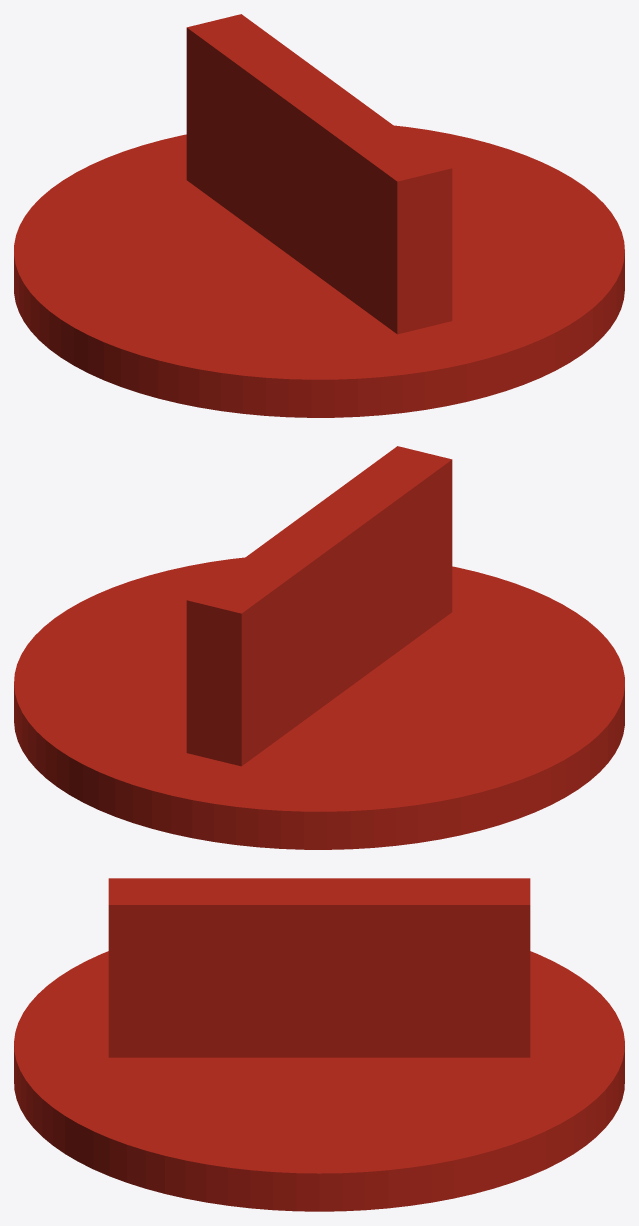
The model's file is Valve.dae.
3 renders of one model, top to bottom at view 1: azimuth 30°, elevation 25°; view 2: azimuth 150°, elevation 25°; view 3: azimuth 270°, elevation 25°, orthographic.
Visible parts, largest first — view 1: ShapeIndexedFaceSet; view 2: ShapeIndexedFaceSet; view 3: ShapeIndexedFaceSet.
Part boxes in pixels (x1,y1,x2,y2): ShapeIndexedFaceSet: (14, 14, 624, 417); ShapeIndexedFaceSet: (14, 446, 624, 849); ShapeIndexedFaceSet: (14, 878, 624, 1211).
Size of the model in its own units: 0.1449 by 0.145 by 0.05.
